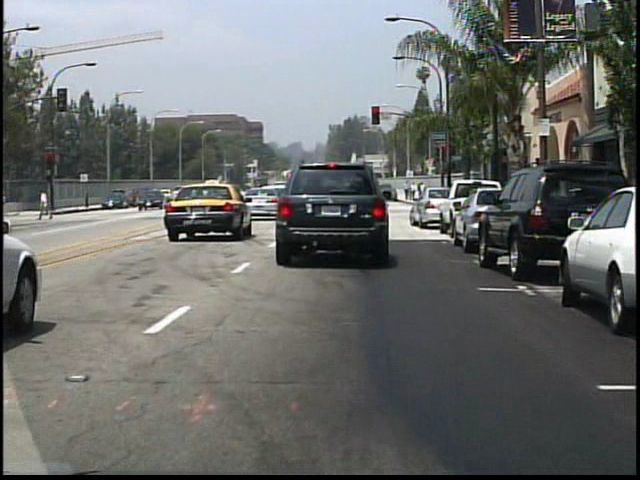person: (417, 180, 437, 214), (40, 186, 53, 223), (420, 180, 428, 204), (403, 180, 411, 202), (411, 181, 418, 203)
